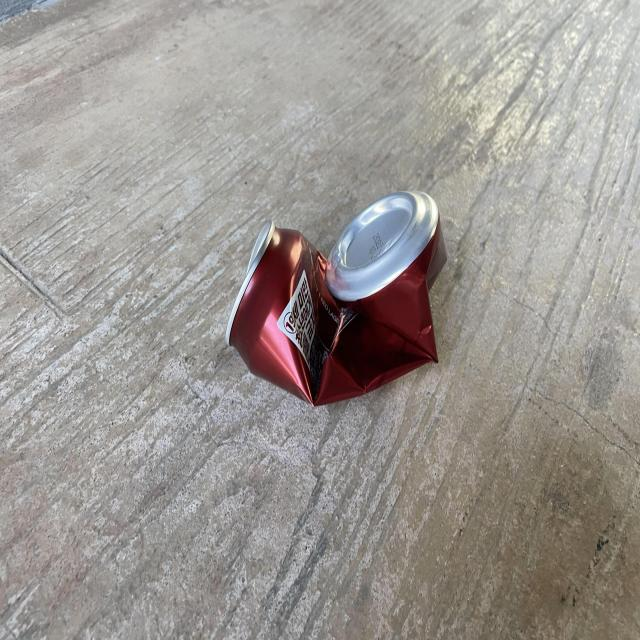can: (226, 191, 447, 406)
